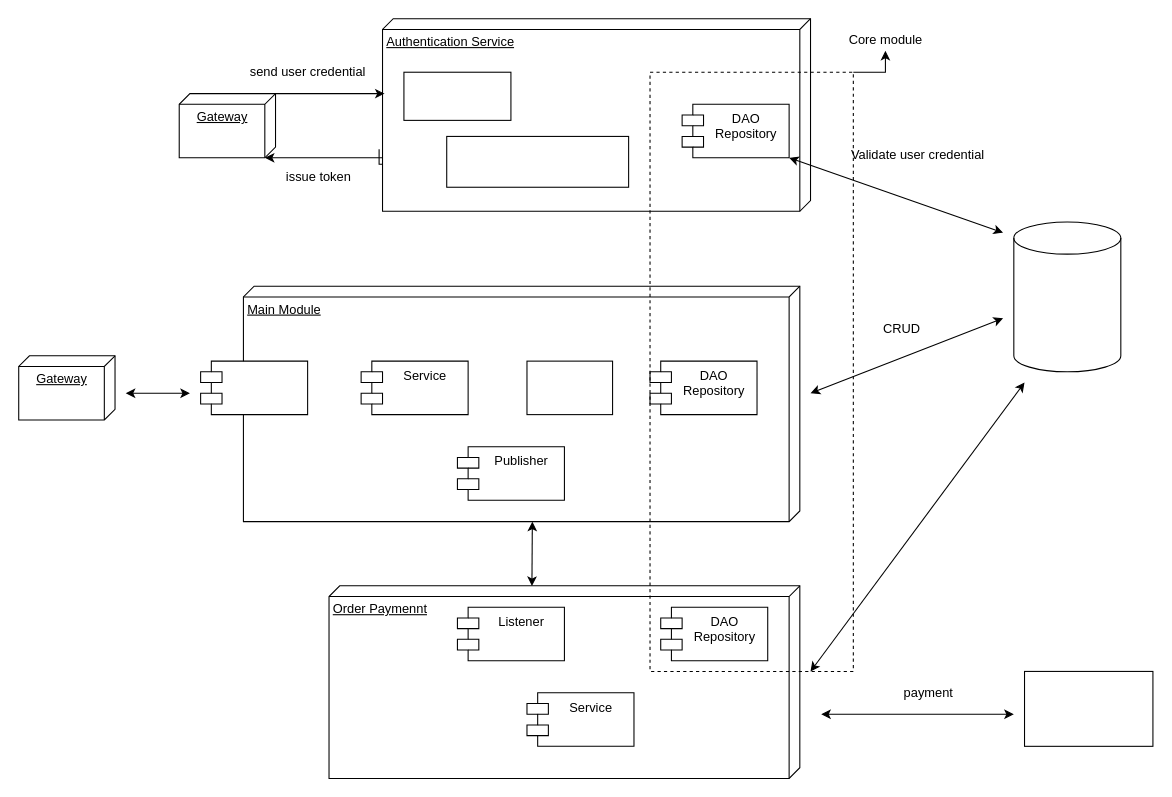
Some shapes in this 1172 by 797 pixel diagram are drawn without their labels. Here are the shapes that lost their labels. From the top down, the centre of each, then its label:
point (457, 95): Security
point (537, 161): Custom Authentication Filter
point (254, 387): REST Controller
point (569, 387): DTO
point (1088, 708): «interface» Paypal API
